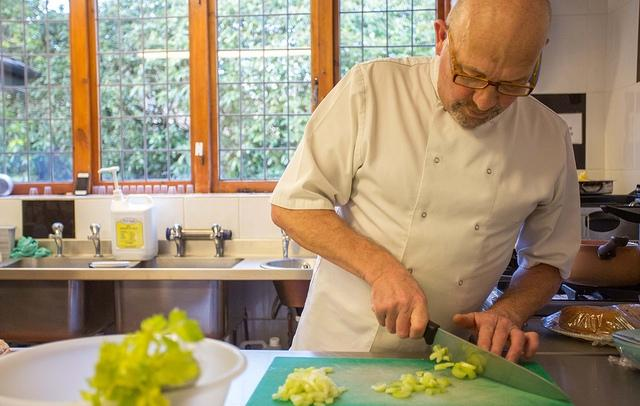celery: (80, 308, 206, 404), (308, 374, 322, 392), (459, 366, 476, 380), (272, 386, 288, 400), (306, 391, 328, 400), (290, 395, 304, 405), (371, 384, 388, 392), (429, 379, 444, 388), (303, 383, 315, 394), (430, 352, 442, 363), (443, 348, 452, 360), (406, 374, 416, 384), (390, 381, 403, 388), (315, 383, 324, 392), (420, 376, 430, 384), (288, 374, 298, 382), (329, 381, 338, 388), (424, 372, 434, 378), (442, 355, 450, 362), (324, 368, 333, 372), (337, 387, 342, 394), (414, 379, 420, 384), (286, 378, 288, 385)
